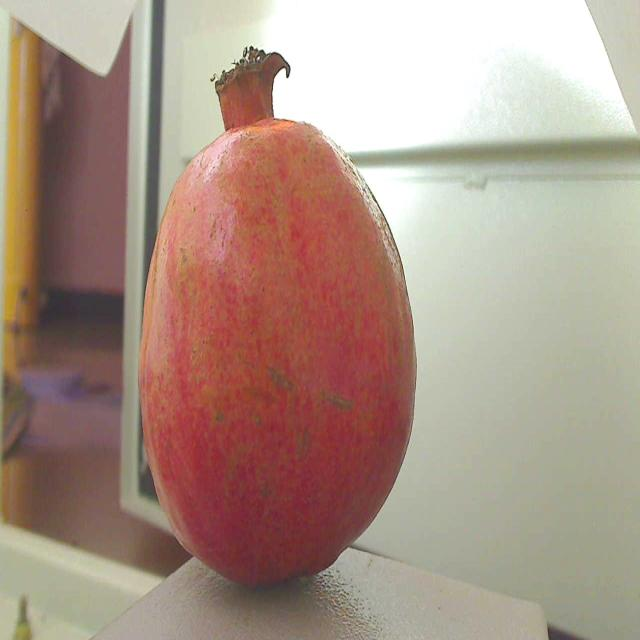pomegranate: (129, 40, 428, 595)
